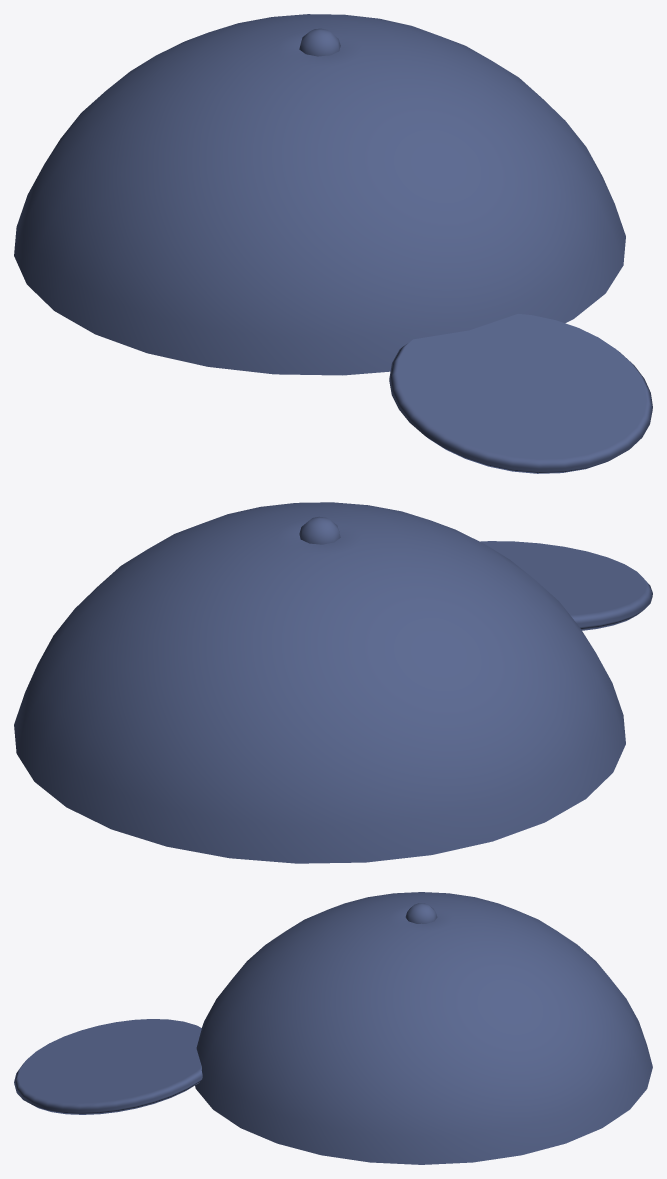
File: dal_cap.glb
3 views of the same model, one above another, from view 1: azimuth 30°, elevation 25°; view 2: azimuth 150°, elevation 25°; view 3: azimuth 270°, elevation 25° (orthographic). The views are drawn at different scales.
Visible parts, largest first — view 1: dal_cap_Head; view 2: dal_cap_Head; view 3: dal_cap_Head.
Part boxes in pixels (bbox=[...]): dal_cap_Head: bbox=[14, 14, 652, 473]; dal_cap_Head: bbox=[14, 502, 652, 863]; dal_cap_Head: bbox=[14, 892, 652, 1164].
Bounding box in the file's own units: 0.6966 × 0.3057 × 0.9615.
